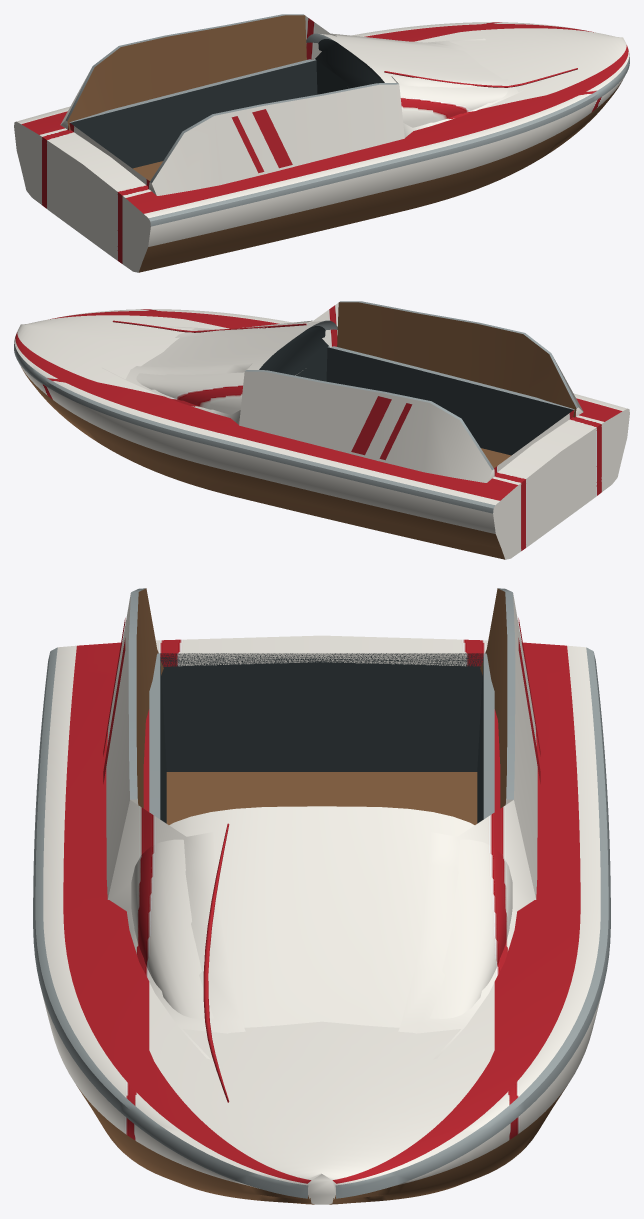
Rendered from Hull_01_N_白艇・一本朱.glb.
The picture shows the model from 3 angles, top to bottom: view 1: azimuth 30°, elevation 25°; view 2: azimuth 150°, elevation 25°; view 3: azimuth 270°, elevation 25°; orthographic projection. The views are drawn at different scales.
Visible parts, largest first — view 1: Hull_01_N; view 2: Hull_01_N; view 3: Hull_01_N.
Boxes of the visible parts, x1,y1,x2,y2 form: Hull_01_N: [14, 14, 629, 272]; Hull_01_N: [14, 301, 629, 559]; Hull_01_N: [33, 588, 610, 1204].
Bounding box in the file's own units: 2.9 × 0.6856 × 1.34.
4 materials, 4 textured.
